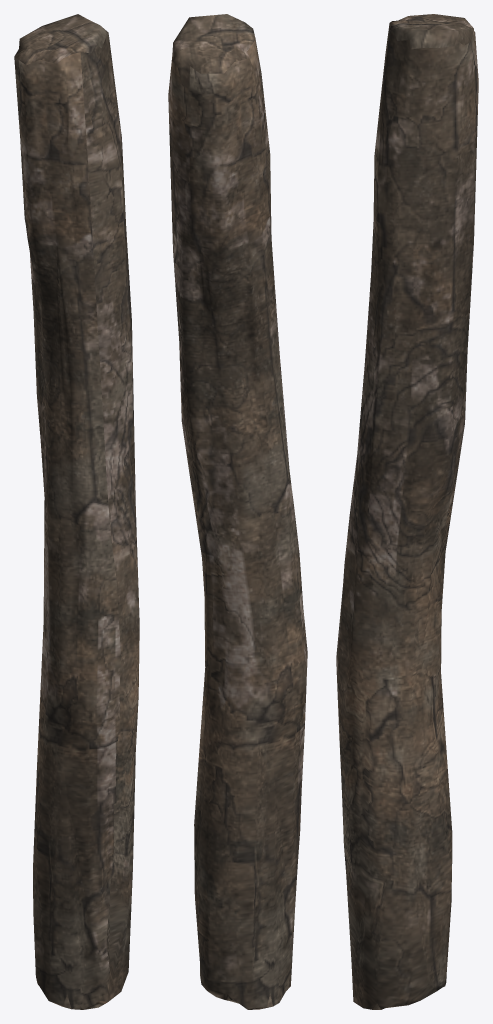
Rendered from SM_Log_D.fbx.
3 views of the same model, side by side, from view 1: azimuth 90°, elevation 25°; view 2: azimuth 150°, elevation 25°; view 3: azimuth 330°, elevation 25° (orthographic). The views are drawn at different scales.
Visible parts, largest first — view 1: SM_Log_D_LOD0; view 2: SM_Log_D_LOD0; view 3: SM_Log_D_LOD0.
Part boxes in pixels (x1,y1,x2,y2): SM_Log_D_LOD0: (14,14,139,1009); SM_Log_D_LOD0: (168,14,307,1009); SM_Log_D_LOD0: (336,14,478,1009).
Size of the model in its own units: 38.21 by 36.75 by 309.
Materials: 1 (1 with a texture image).
